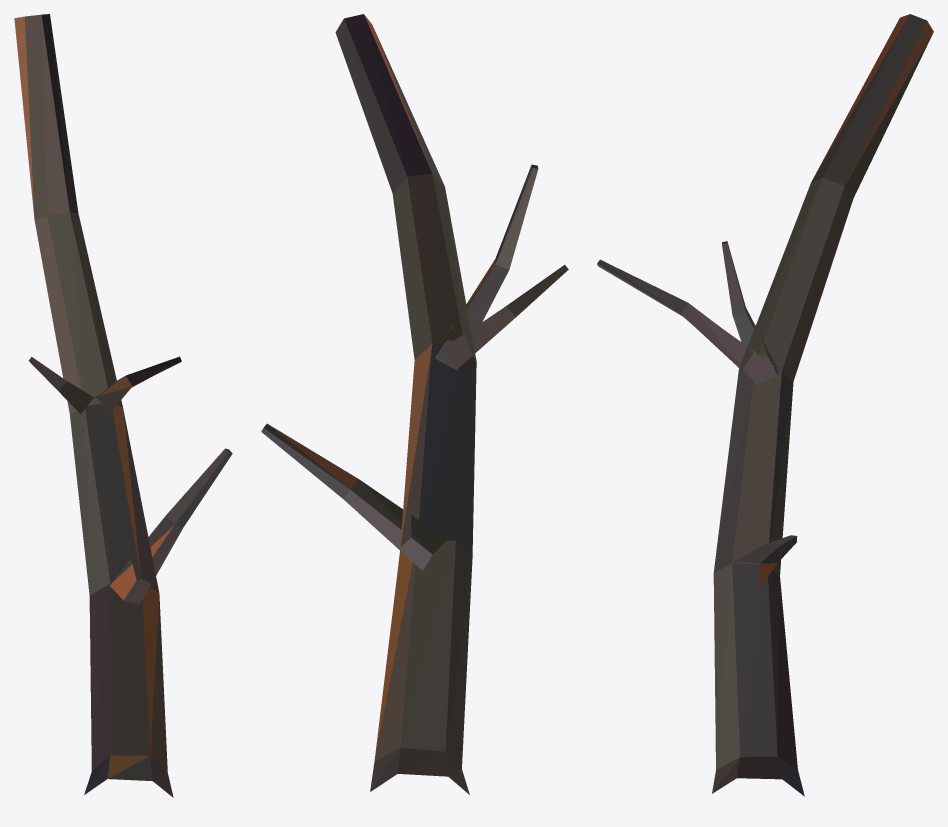
Rendered from Tree_Burnt_03.glb.
3 renders of one model, left to right at view 1: azimuth 30°, elevation 25°; view 2: azimuth 150°, elevation 25°; view 3: azimuth 270°, elevation 25°, orthographic. The views are drawn at different scales.
Parts seen in each view (by area): view 1: Tree_Burnt_03; view 2: Tree_Burnt_03; view 3: Tree_Burnt_03.
Part boxes in pixels (left/top/right/bottom): Tree_Burnt_03: left=14, top=14, right=232, bottom=797; Tree_Burnt_03: left=261, top=14, right=568, bottom=794; Tree_Burnt_03: left=597, top=14, right=933, bottom=796.
Size of the model in its own units: 2.99 by 8.96 by 3.56.
